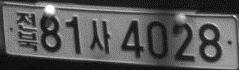0: (145, 19, 169, 59)
1: (63, 14, 85, 54)
2: (172, 20, 194, 62)
4: (120, 19, 143, 57)
8: (197, 21, 222, 62), (38, 12, 61, 52)
사: (89, 19, 111, 53)
전북_V: (15, 11, 38, 51)
